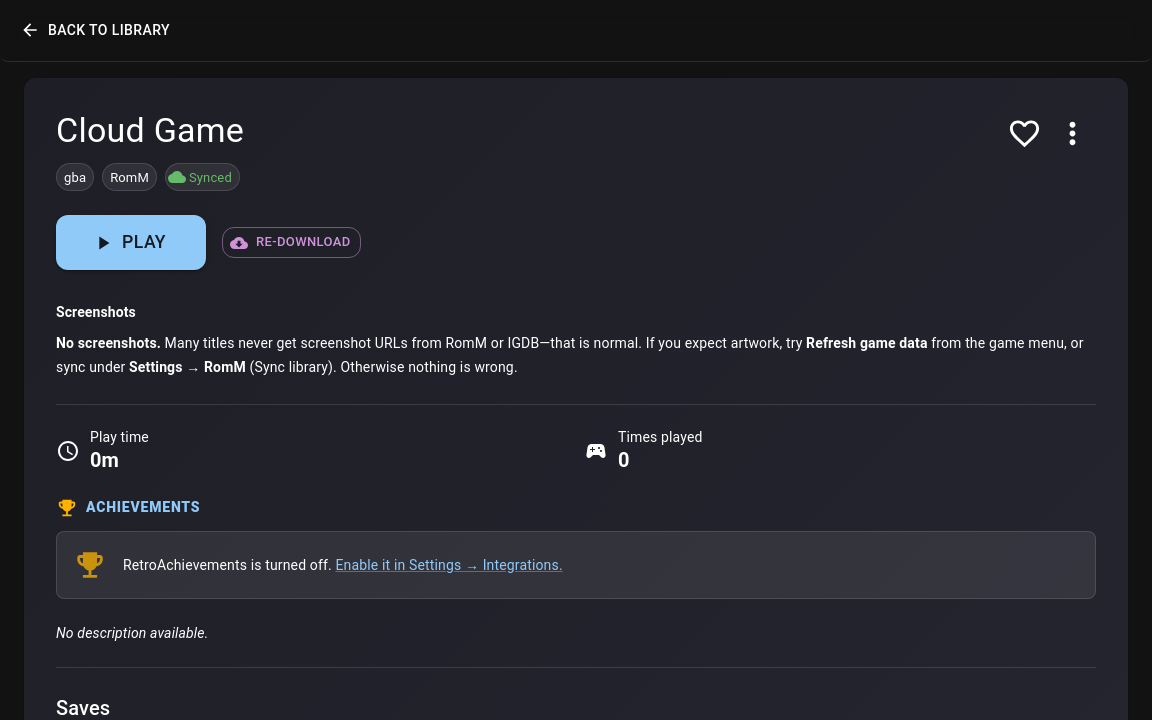
Scenario: GameDetails overflow actions › keeps the overflow menu focused on working actions
The width and height of the screenshot is (1152, 720).
Click the button named "More options" at (1072, 134), box left=1048, top=110, right=1096, bottom=158
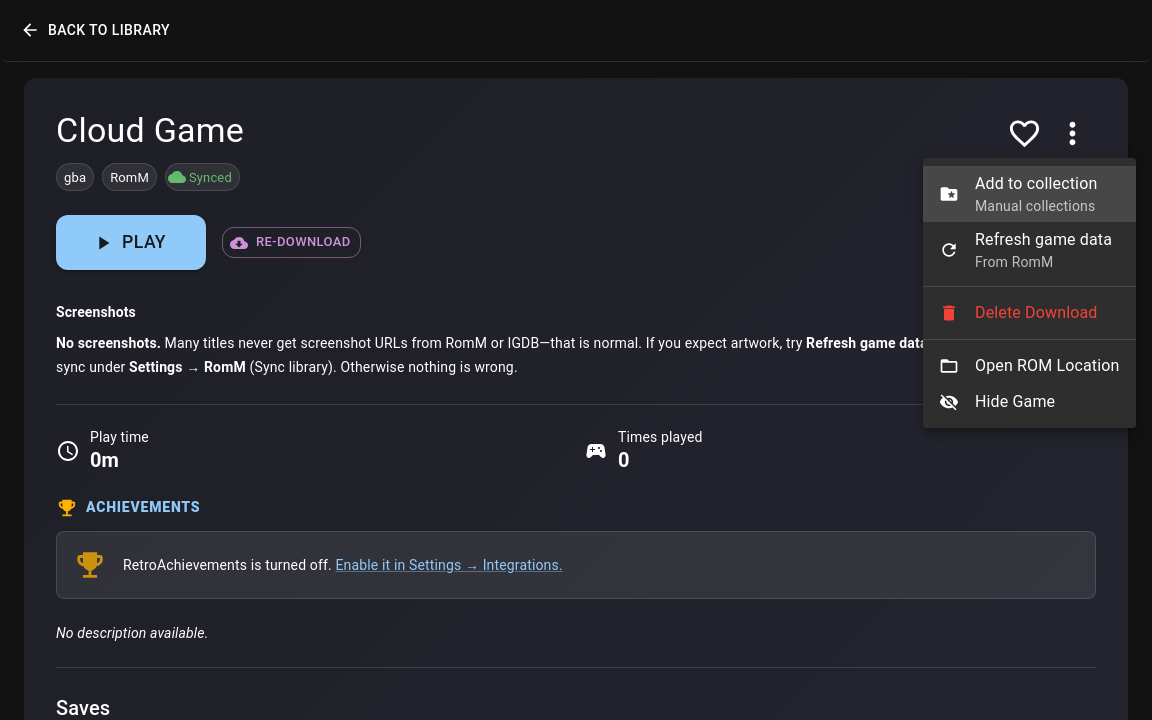
Result: the menu item "Delete Download" is shown at left=939, top=303, right=1098, bottom=323
